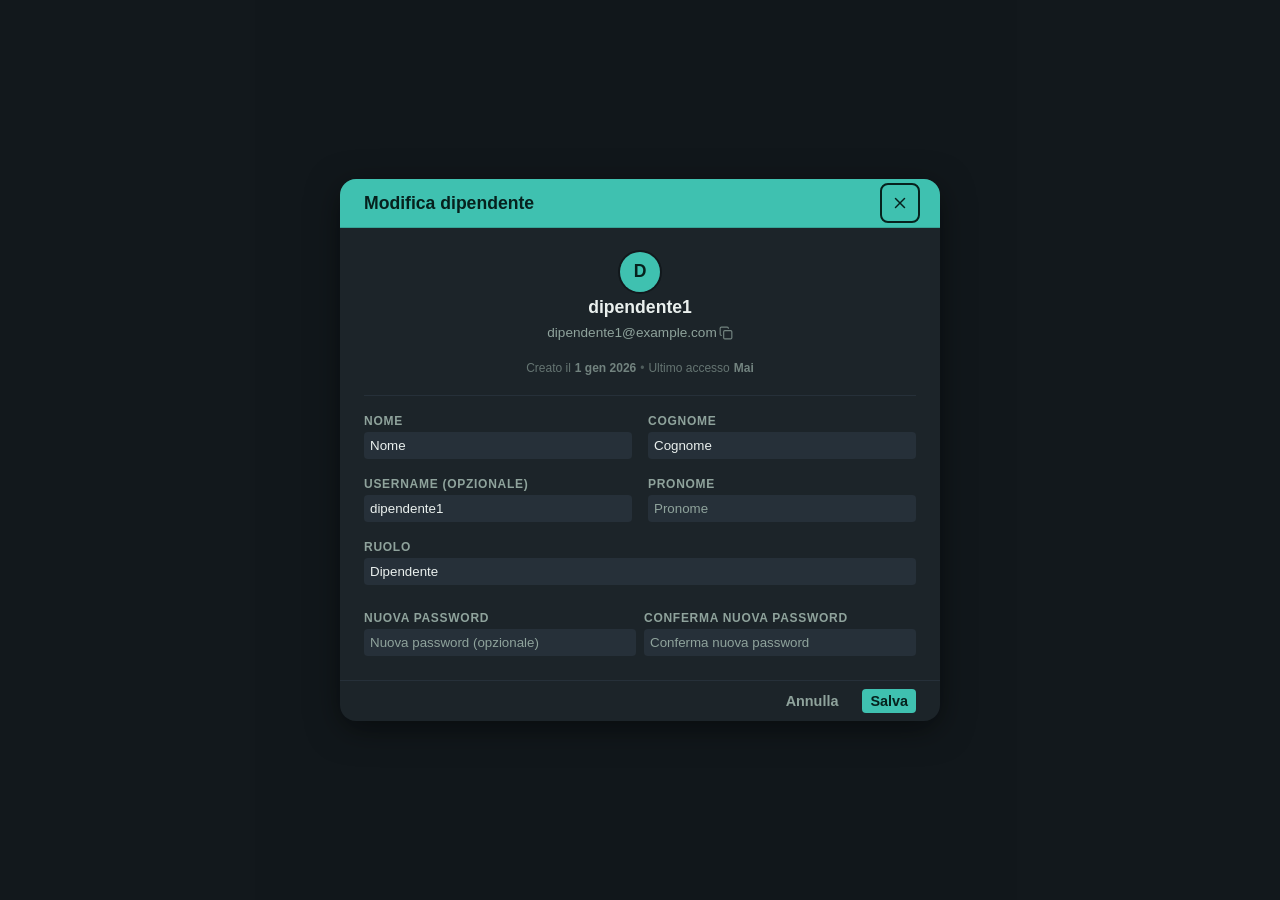
Test: EditEmployeeModalComponent › shows an error when a new password does not meet the policy
In the password field with placeholder "Nuova password (opzionale)": (500, 642) top-left (364, 629), bottom-right (636, 656), type "weak"
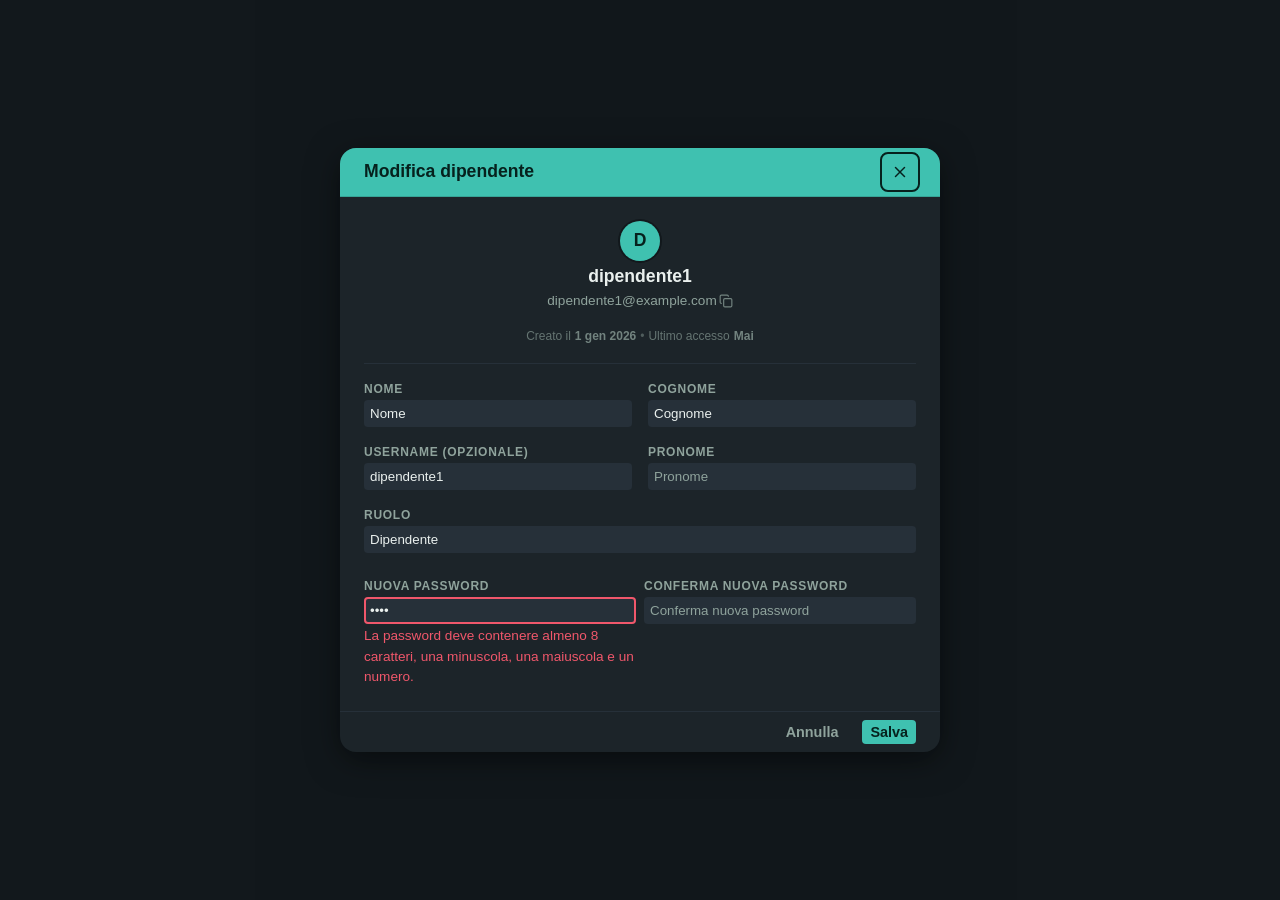
Now the text "La password deve contenere almeno 8 caratteri, una minuscola, una maiuscola e un numero." is shown, box top-left (364, 628), bottom-right (634, 684)
